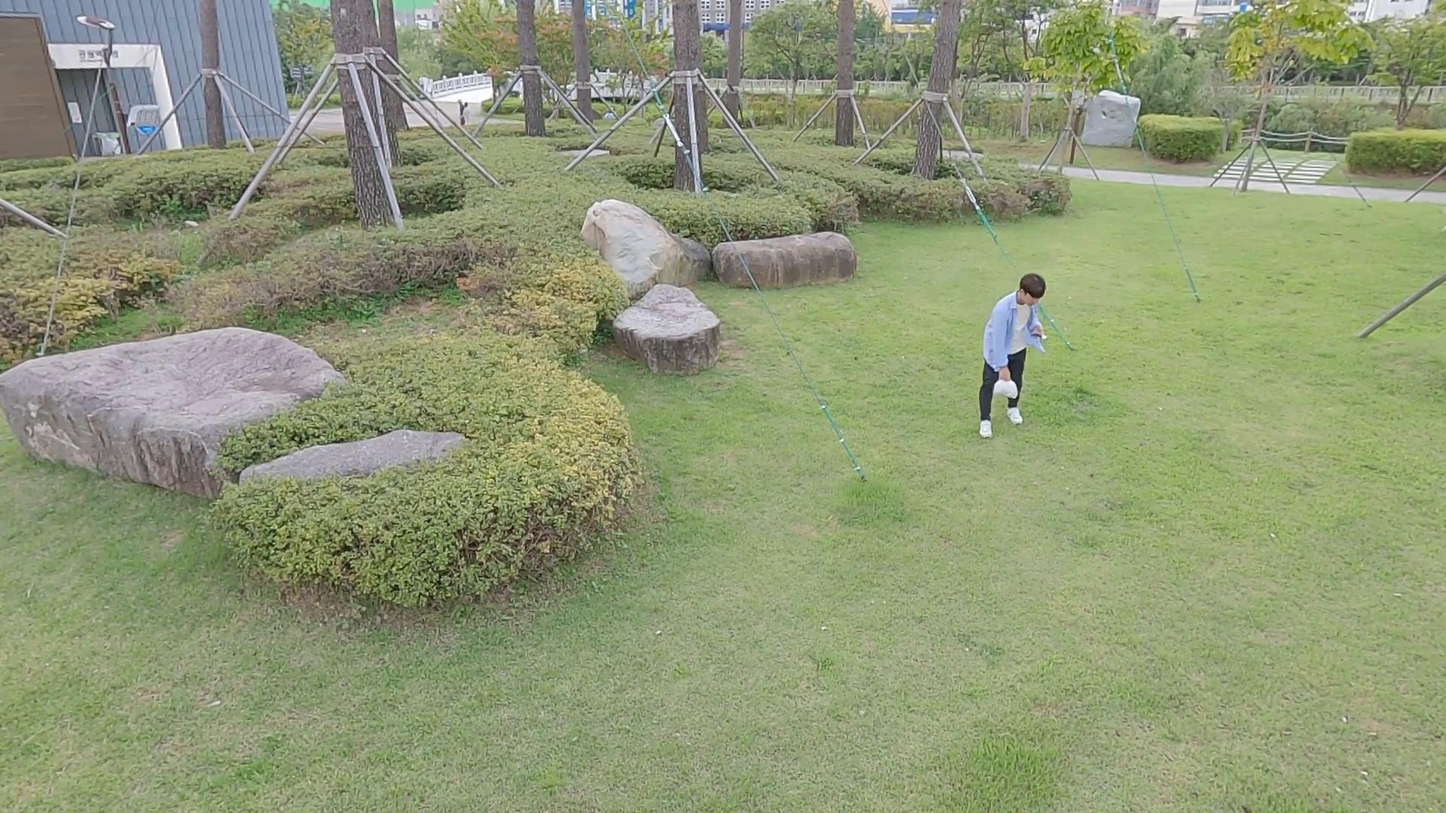person: (973, 267, 1052, 440)
trash: (988, 375, 1023, 409)
